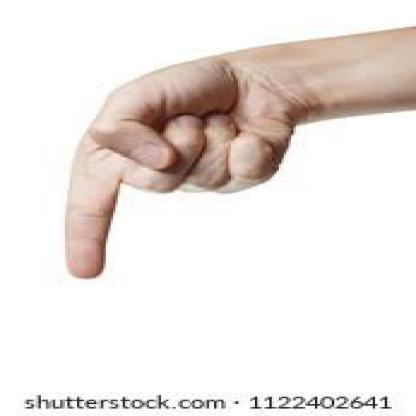Down: (61, 64, 292, 272)
